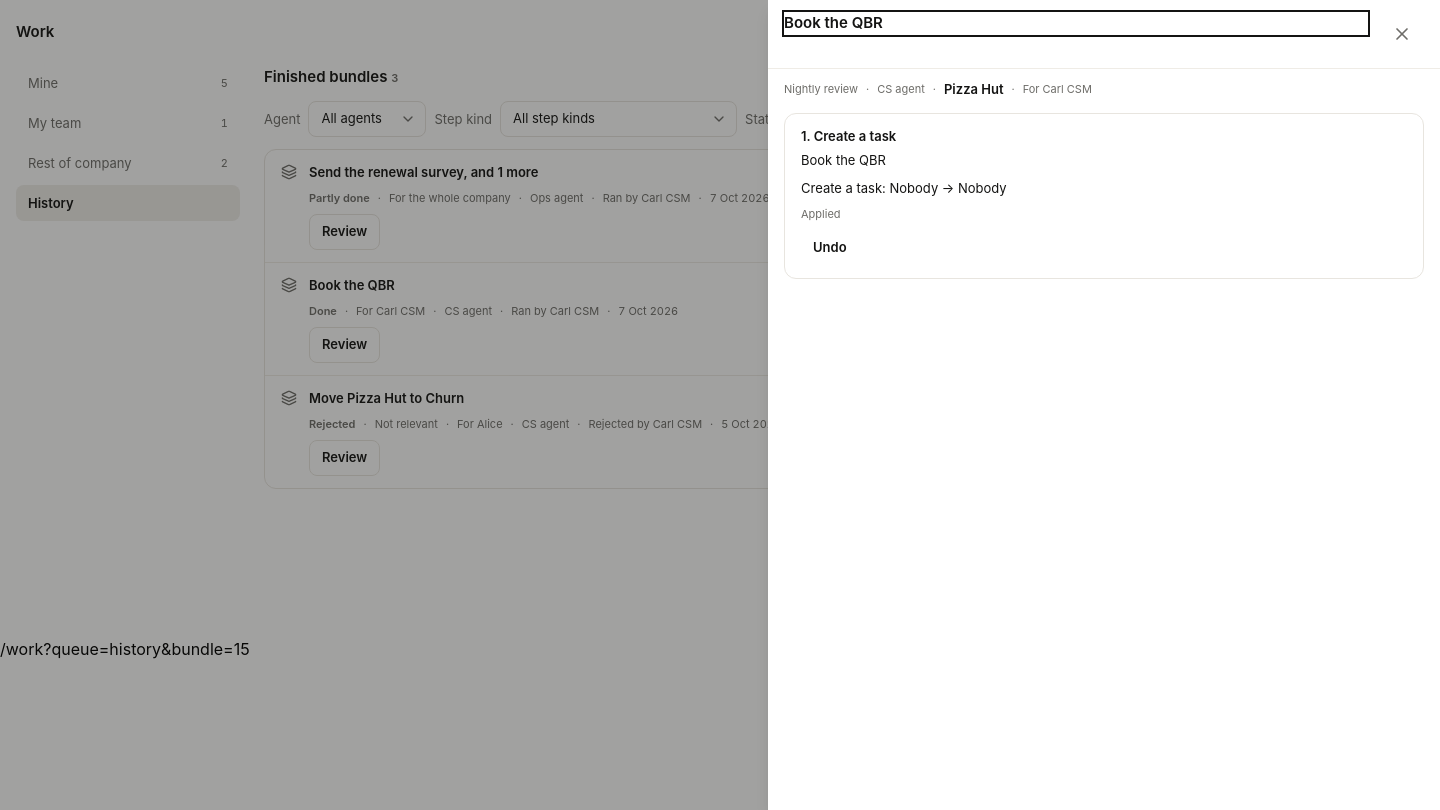
Test: History (spec §8.1; frontend Decision 13) › undoes a step of a done bundle
The width and height of the screenshot is (1440, 810).
Click the button "Undo": click(830, 248) [801,230,859,266]
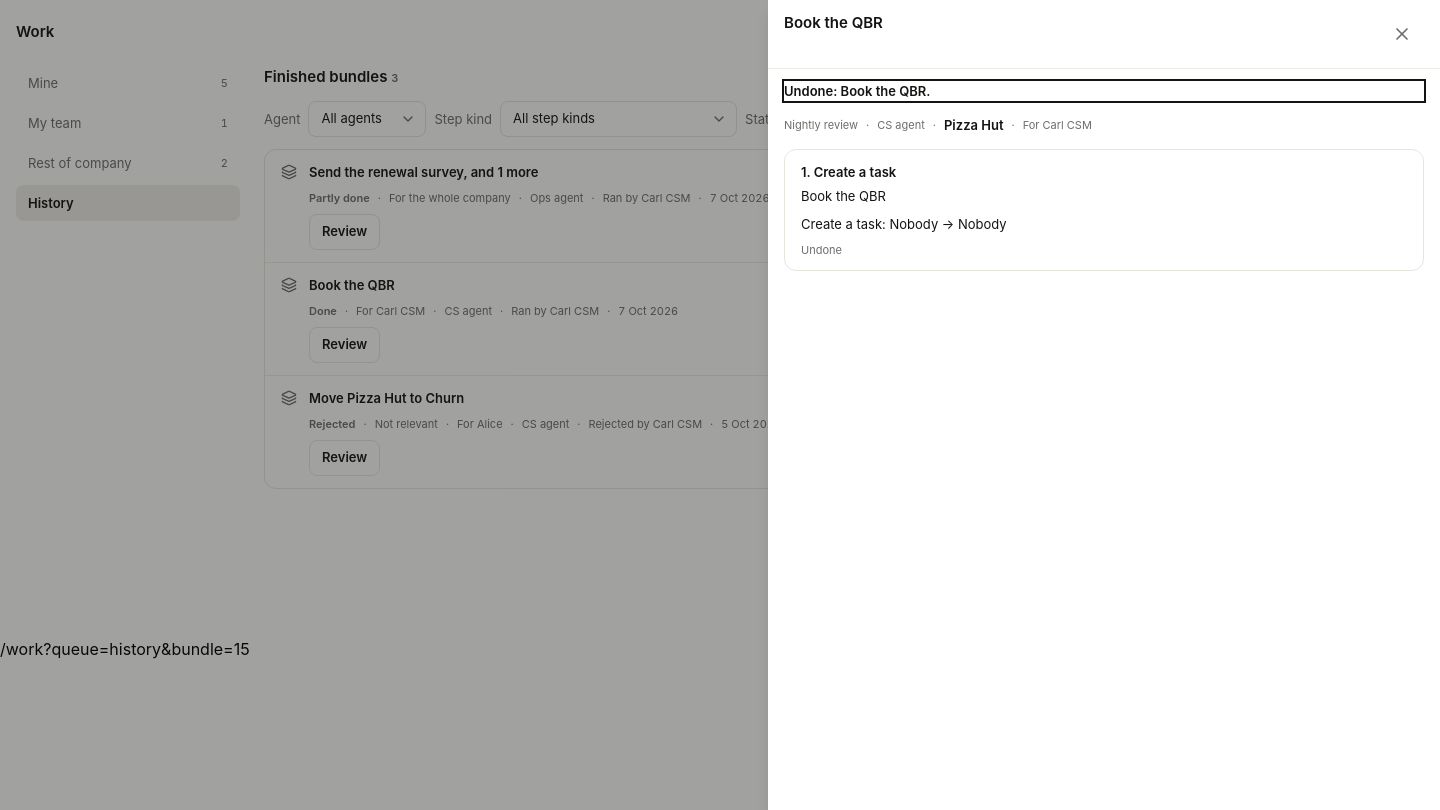
Result: the text "Undone: Book the QBR." is shown at [784,83,930,99]
